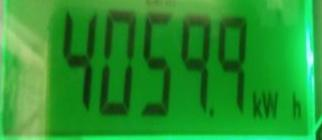.: (249, 90, 303, 121)
0: (208, 108, 216, 120)
1: (97, 9, 139, 117)
5: (59, 12, 98, 112)
6: (141, 11, 175, 117)
:: (178, 14, 212, 113), (217, 16, 250, 115)
